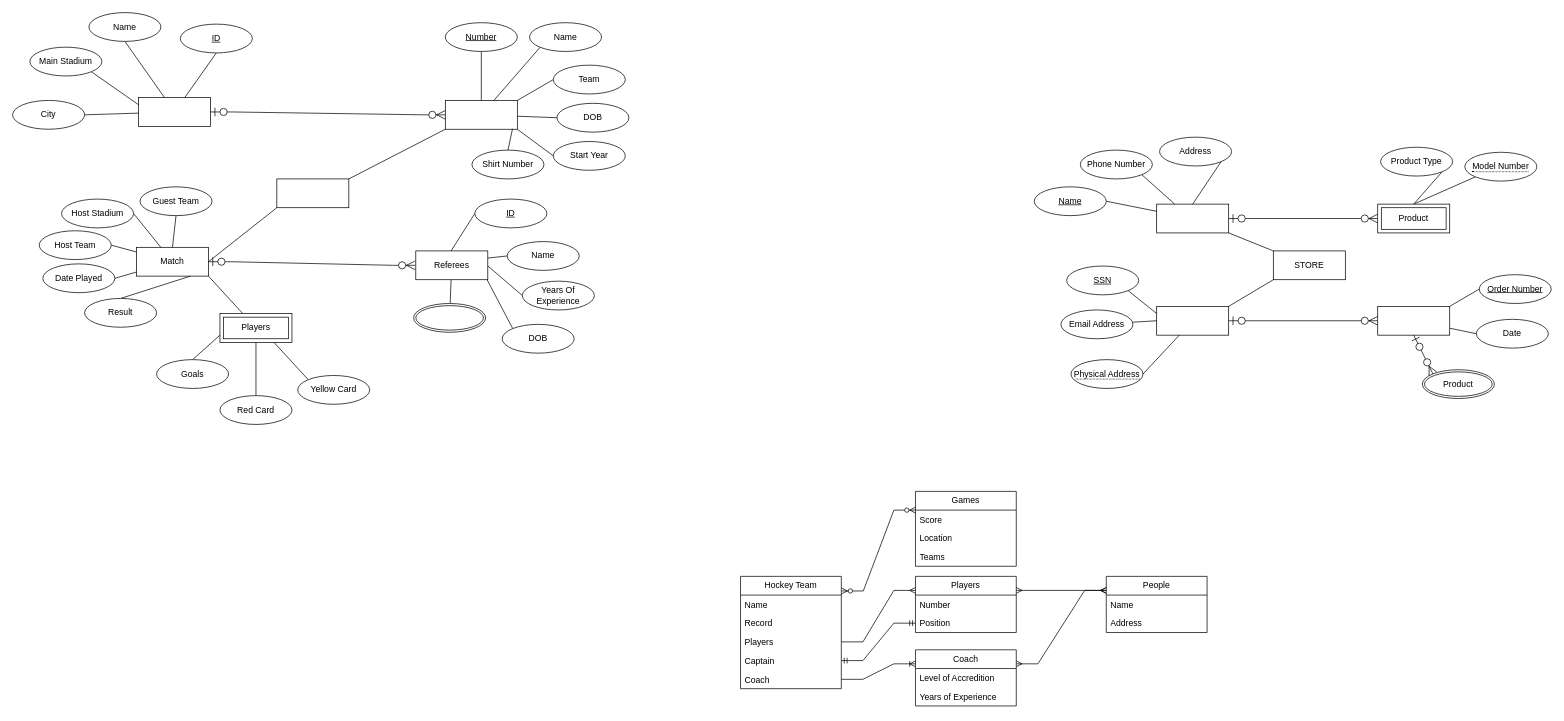
Some shapes in this 1564 by 721 pixel diagram are drawn without their labels. Each missing label, with the centre of its shape:
Customer: the point at 1192,320
Main / Assistant: the point at 449,317
Manufacturer: the point at 1192,218
Order: the point at 1413,320
Player: the point at 481,114
Soccer: the point at 312,193
Soccer Team: the point at 174,111
